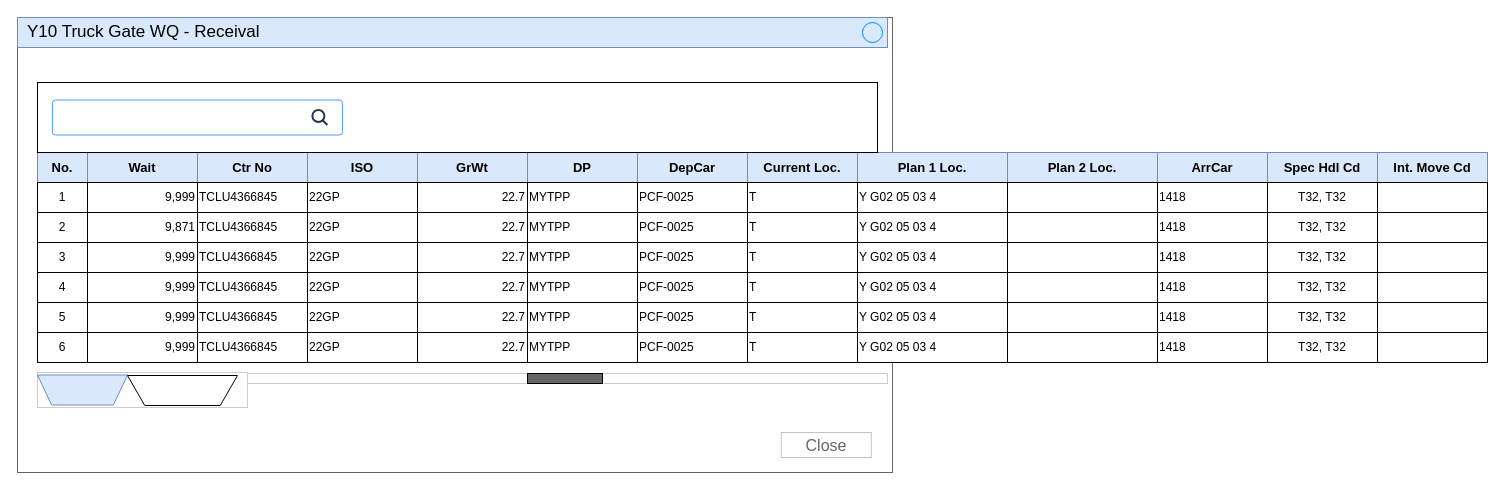
This 1505x490 diagram has some shape labels left out. The shapes that lost their labels are listed below. From the top down, each one's centre as x and y in pixels, then its label:
At (x=82, y=389): "Planned".
At (x=182, y=390): "No Allocation".
